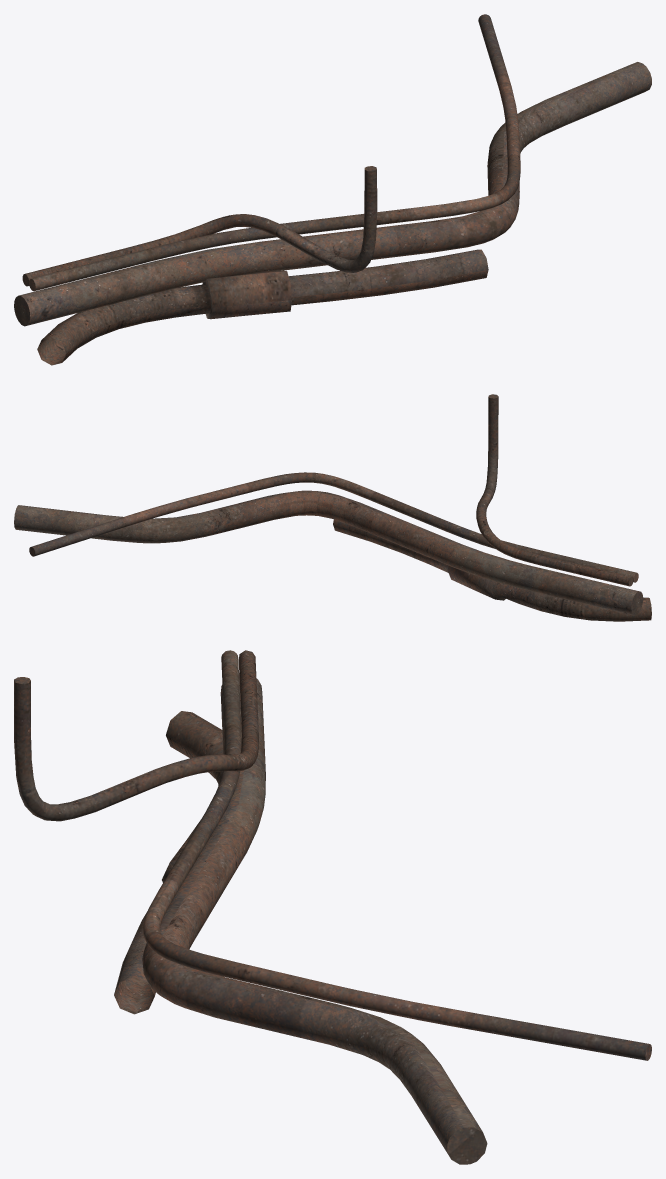
The model's file is rust_pipe_test.fbx.
The picture shows the model from 3 angles, top to bottom: view 1: azimuth 30°, elevation 25°; view 2: azimuth 150°, elevation 25°; view 3: azimuth 270°, elevation 25°; orthographic projection. The views are drawn at different scales.
Visible parts, largest first — view 1: pip.003, BezierCurve, pip.002, pip.001; view 2: pip.003, pip.002, BezierCurve, pip.001; view 3: pip.003, pip.002, pip.001, BezierCurve.
Boxes of the visible parts, x1,y1,x2,y2 form: pip.003: (14,62,651,326); BezierCurve: (37,249,488,365); pip.002: (29,14,520,291); pip.001: (22,166,377,286); pip.003: (14,490,643,615); pip.002: (29,472,638,582); BezierCurve: (333,519,651,621); pip.001: (476,394,633,586); pip.003: (142,673,487,1164); pip.002: (142,650,651,1060); pip.001: (14,650,258,821); BezierCurve: (114,711,223,1014).
Size of the model in its own units: 343 by 84.73 by 202.
